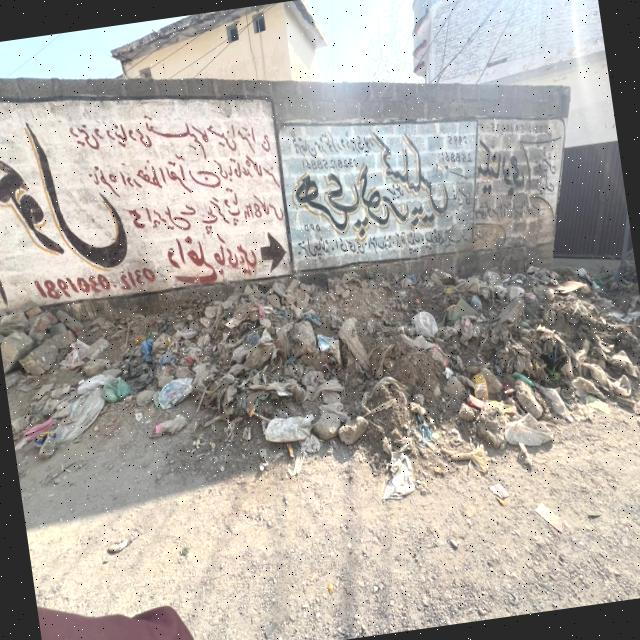garbage: (177, 236, 640, 477), (13, 319, 188, 443)
